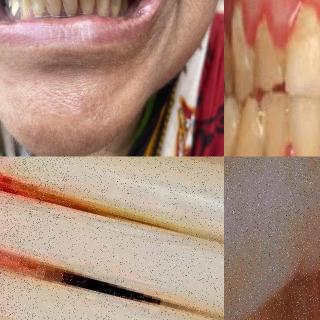Gum Swelling: (230, 0, 319, 36)
calculus: (250, 16, 286, 56), (293, 1, 320, 54), (229, 6, 247, 53), (60, 0, 70, 16), (40, 0, 50, 15)
maligned: (228, 96, 266, 156)
